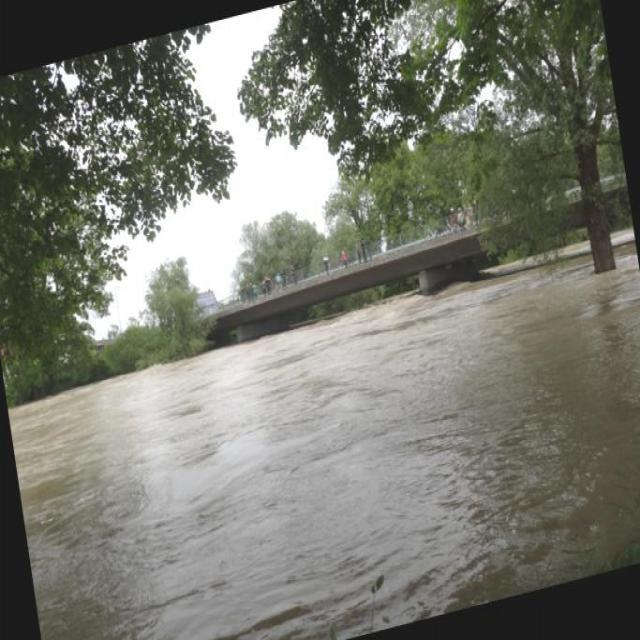flood: (3, 218, 639, 639)
